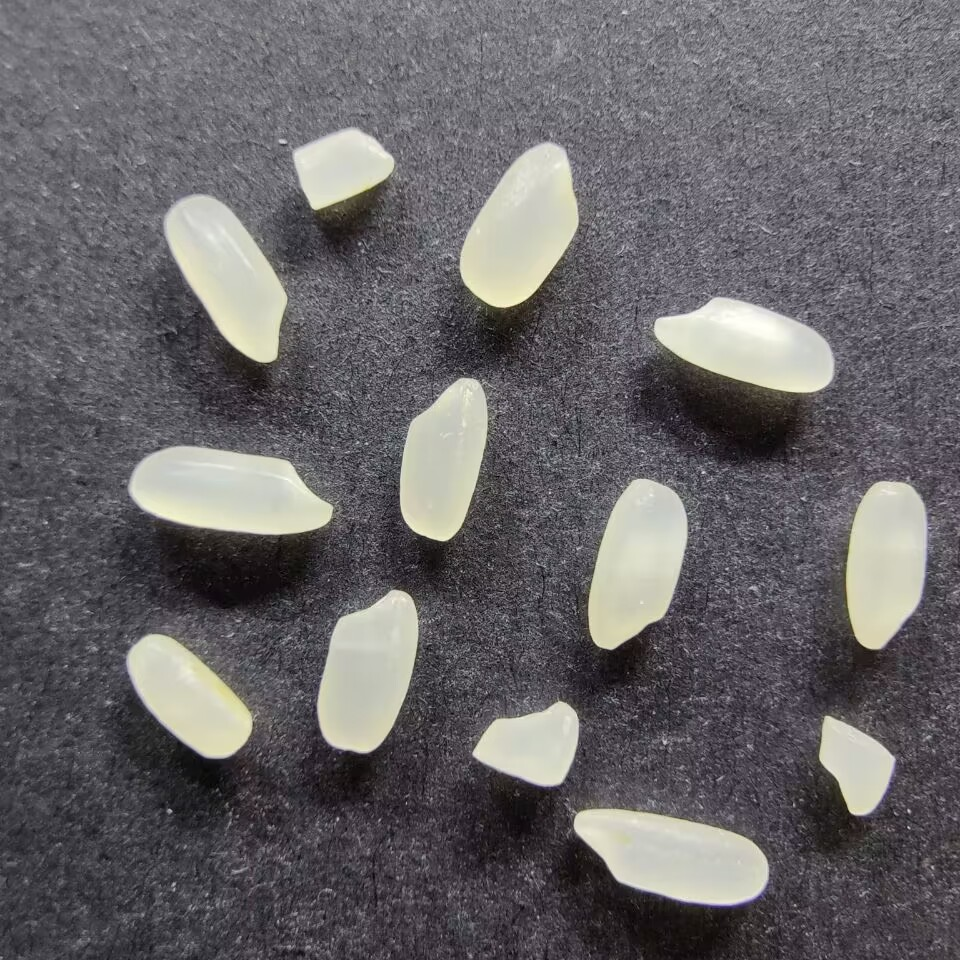broken: (468, 697, 581, 788), (289, 126, 396, 212), (818, 712, 898, 819)
rice: (160, 193, 290, 364), (457, 140, 580, 309), (128, 444, 334, 537), (650, 294, 837, 394), (585, 477, 688, 651), (315, 588, 421, 754), (123, 632, 253, 761), (396, 375, 489, 542), (843, 479, 929, 650)
